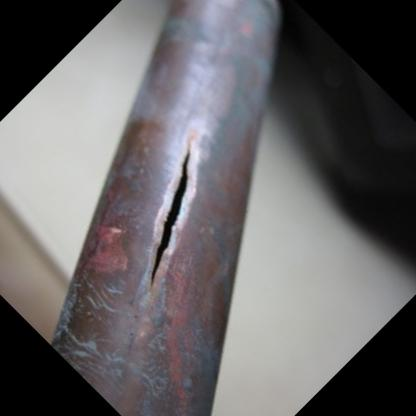burst: (144, 141, 207, 301)
